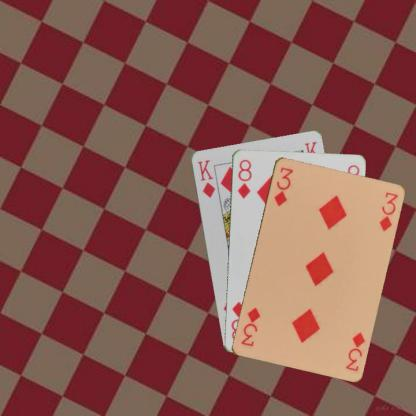3d: (271, 164, 294, 208), (343, 328, 366, 372)
8d: (234, 156, 252, 199)
Kd: (195, 157, 216, 199)
